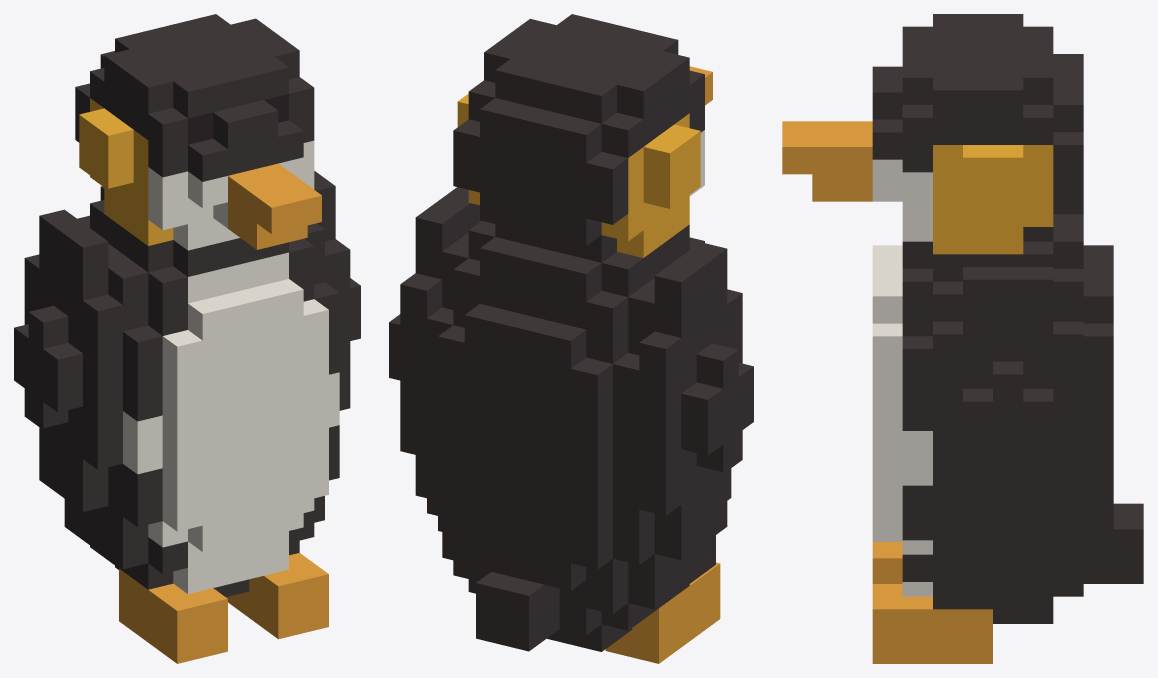
The model's file is penguin.glb.
The picture shows the model from 3 angles, left to right: view 1: azimuth 30°, elevation 25°; view 2: azimuth 150°, elevation 25°; view 3: azimuth 270°, elevation 25°; orthographic projection. The views are drawn at different scales.
Visible parts, largest first — view 1: penguin__body, penguin__head, penguin__wing_r, penguin__leg_r, penguin__leg_l, penguin__wing_l; view 2: penguin__body, penguin__head, penguin__wing_r, penguin__wing_l, penguin__tail, penguin__leg_r; view 3: penguin__head, penguin__body, penguin__wing_l, penguin__leg_l, penguin__tail, penguin__leg_r.
Boxes of the visible parts, x1=… form: penguin__body: x1=64, y1=186, x2=339, y2=596; penguin__head: x1=75, y1=14, x2=321, y2=250; penguin__wing_r: x1=14, y1=209, x2=122, y2=511; penguin__leg_r: x1=119, y1=568, x2=227, y2=663; penguin__leg_l: x1=226, y1=553, x2=328, y2=639; penguin__wing_l: x1=314, y1=171, x2=360, y2=410; penguin__body: x1=427, y1=221, x2=731, y2=651; penguin__head: x1=453, y1=14, x2=712, y2=262; penguin__wing_r: x1=639, y1=242, x2=753, y2=560; penguin__wing_l: x1=389, y1=187, x2=481, y2=498; penguin__tail: x1=476, y1=571, x2=559, y2=651; penguin__leg_r: x1=605, y1=562, x2=720, y2=663; penguin__head: x1=782, y1=14, x2=1083, y2=254; penguin__body: x1=872, y1=214, x2=1113, y2=623; penguin__wing_l: x1=933, y1=267, x2=1083, y2=552; penguin__leg_l: x1=872, y1=584, x2=992, y2=663; penguin__tail: x1=1083, y1=503, x2=1143, y2=583; penguin__leg_r: x1=872, y1=542, x2=902, y2=583.
Size of the model in its own units: 1.2 by 2.1 by 1.2.
1 material, 1 textured.
